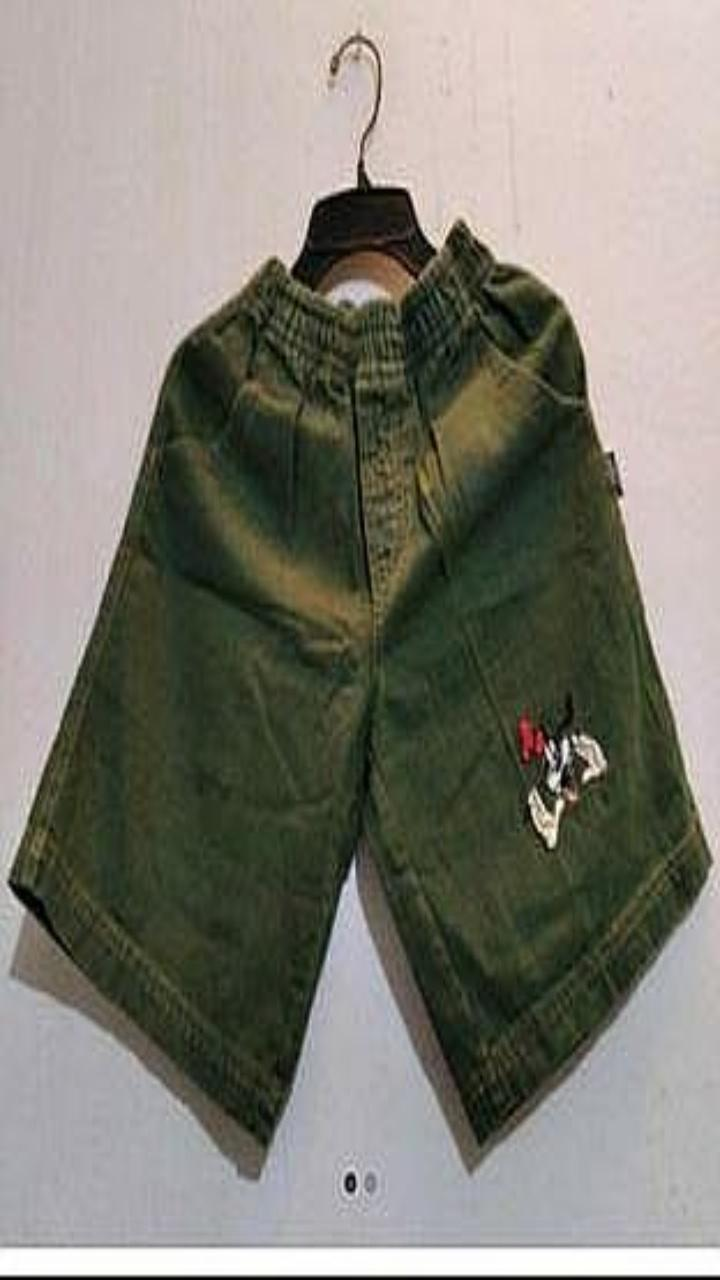Shorts: (9, 218, 710, 1146)
